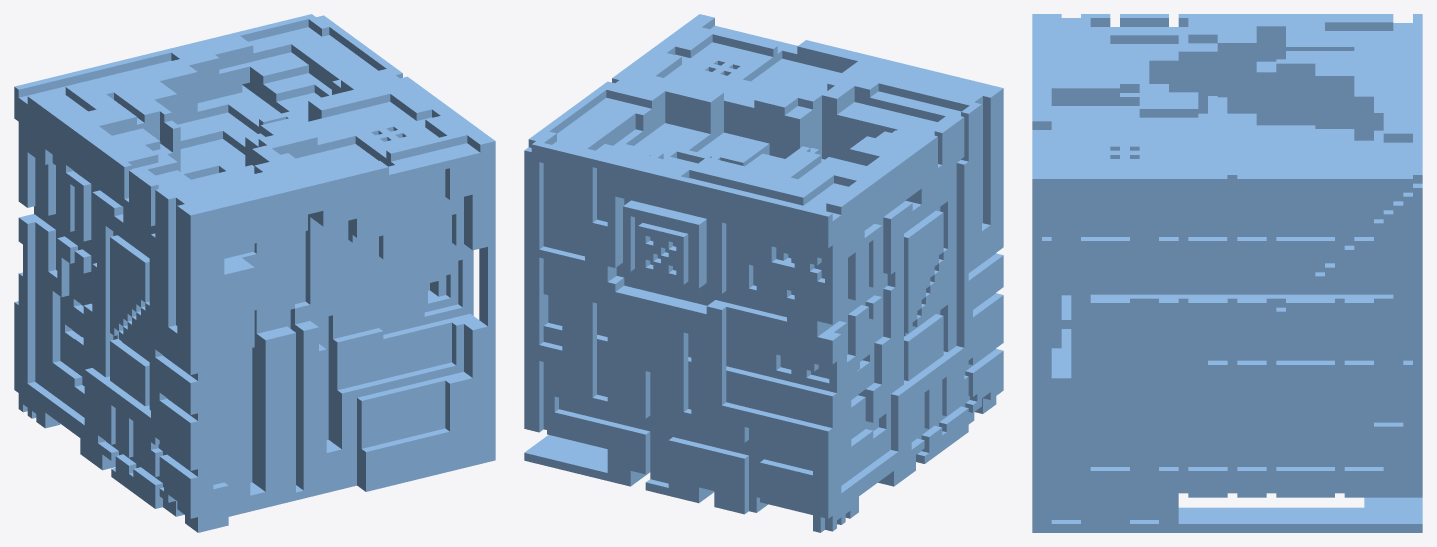
File: antiutopiacube.glb
The picture shows the model from 3 angles, left to right: view 1: azimuth 30°, elevation 25°; view 2: azimuth 150°, elevation 25°; view 3: azimuth 270°, elevation 25°; orthographic projection. The views are drawn at different scales.
Visible parts, largest first — view 1: Untitled; view 2: Untitled; view 3: Untitled.
Part boxes in pixels (x1,y1,x2,y2): Untitled: (14,14,495,532); Untitled: (524,14,1003,532); Untitled: (1032,14,1422,532).
Bounding box in the file's own units: 4 × 4 × 4.
1 material, 1 textured.
